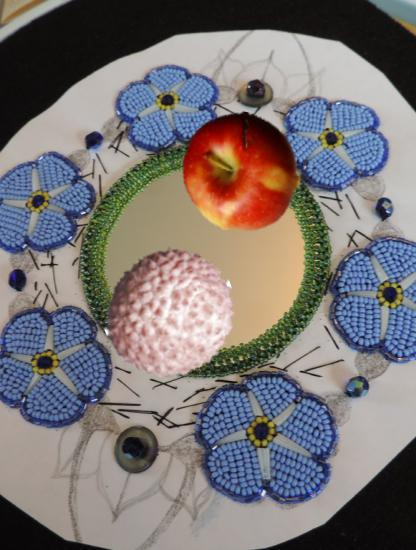Apple: (181, 112, 301, 232)
Lychee: (103, 247, 238, 382)
